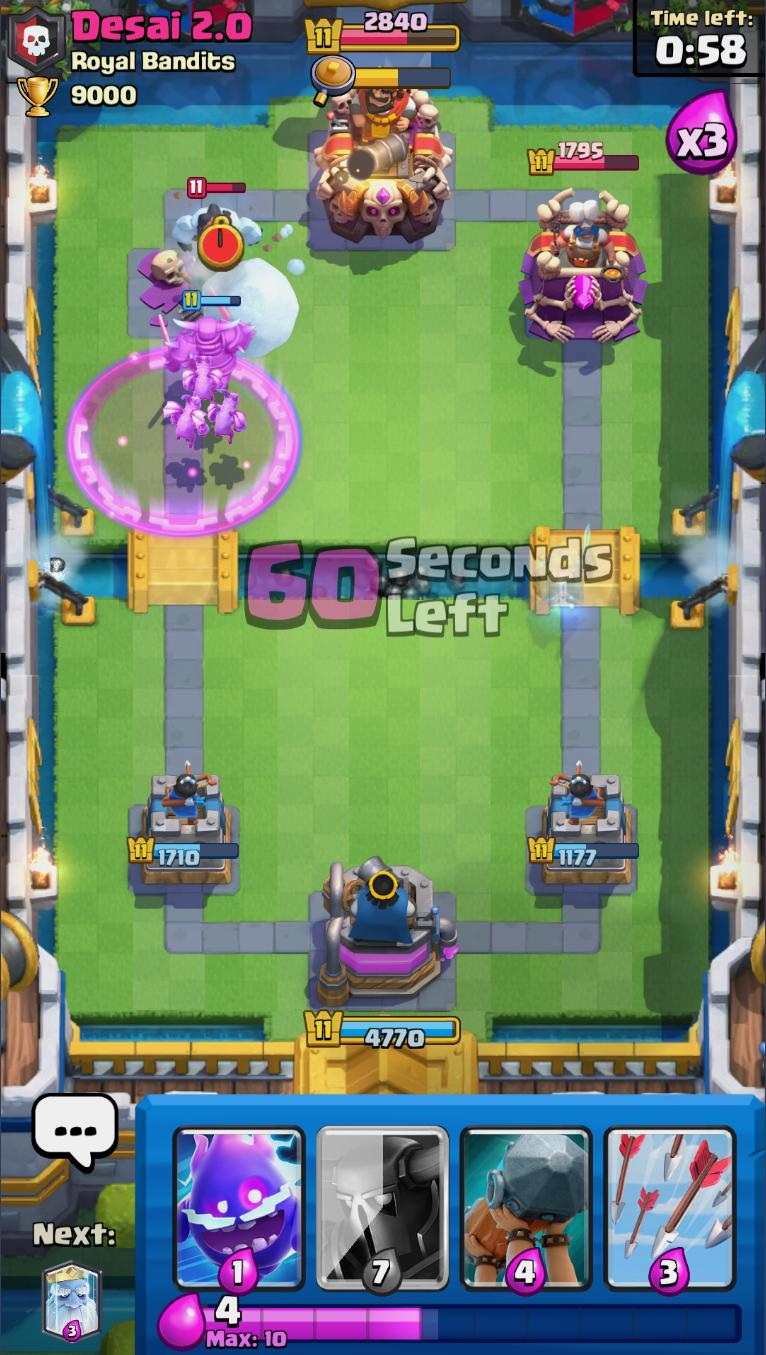ArrowDeck: (601, 1096, 741, 1296)
BattleRamDeck: (455, 1096, 598, 1295)
Chef: (553, 198, 616, 277)
ElectroSpiritDeck: (166, 1095, 313, 1287)
Elixir: (204, 1293, 747, 1350)
EnemyTower: (517, 186, 649, 348)
EnemyTowerBrocken: (122, 240, 243, 340)
GiantSnowball: (197, 258, 300, 356)
IceGolem: (173, 177, 261, 257)
KingTower: (312, 82, 455, 245)
KingTowerHP: (303, 9, 463, 56)
MyKingHP: (300, 1006, 462, 1051)
MyKingTower: (316, 851, 462, 1009)
MyMinion: (160, 391, 209, 446), (205, 390, 248, 446), (178, 354, 227, 400)
MyPekka: (158, 287, 257, 387)
MyPrincessTower: (125, 770, 242, 892), (528, 775, 639, 894)
MyPrincessTowerHP: (528, 833, 642, 869), (128, 834, 244, 868)
MyRoyaleGhost: (537, 525, 599, 612)
PekkaDeck: (308, 1098, 451, 1296)
Rage: (65, 350, 303, 537)
RoyaleGhostNext: (41, 1264, 103, 1315)
TowerPrincessHP: (527, 140, 643, 179)
